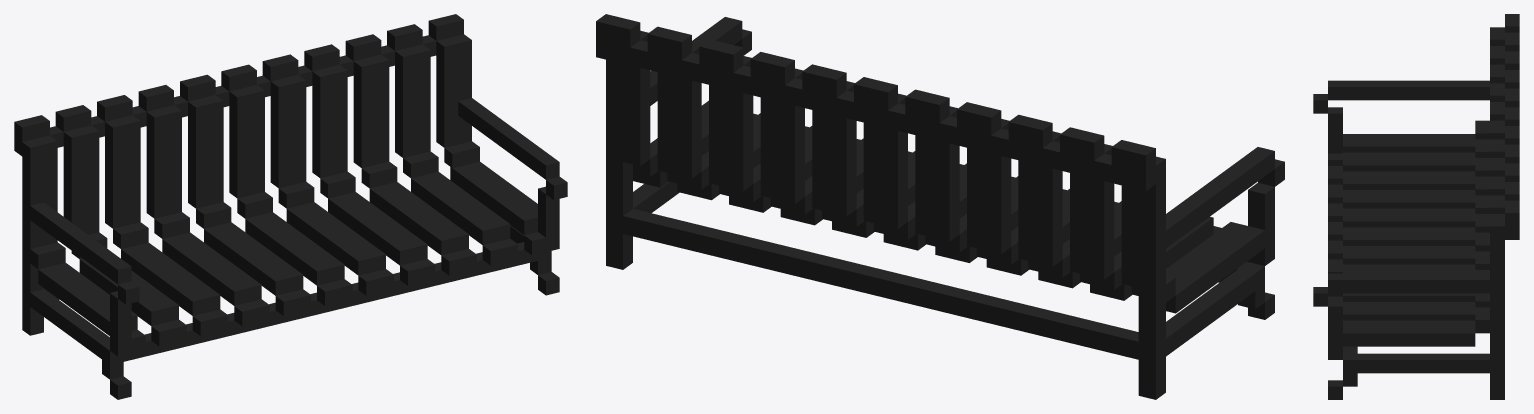
File: Park_Bench_Metal_01.glb
The picture shows the model from 3 angles, left to right: view 1: azimuth 30°, elevation 25°; view 2: azimuth 150°, elevation 25°; view 3: azimuth 270°, elevation 25°; orthographic projection. The views are drawn at different scales.
Visible parts, largest first — view 1: Park_Bench_Metal_01; view 2: Park_Bench_Metal_01; view 3: Park_Bench_Metal_01.
Boxes of the visible parts, x1,y1,x2,y2 form: Park_Bench_Metal_01: [14, 14, 567, 399]; Park_Bench_Metal_01: [596, 14, 1284, 399]; Park_Bench_Metal_01: [1313, 14, 1519, 399].
Size of the model in its own units: 3.2 by 1.4 by 1.4.
1 material, 1 textured.
